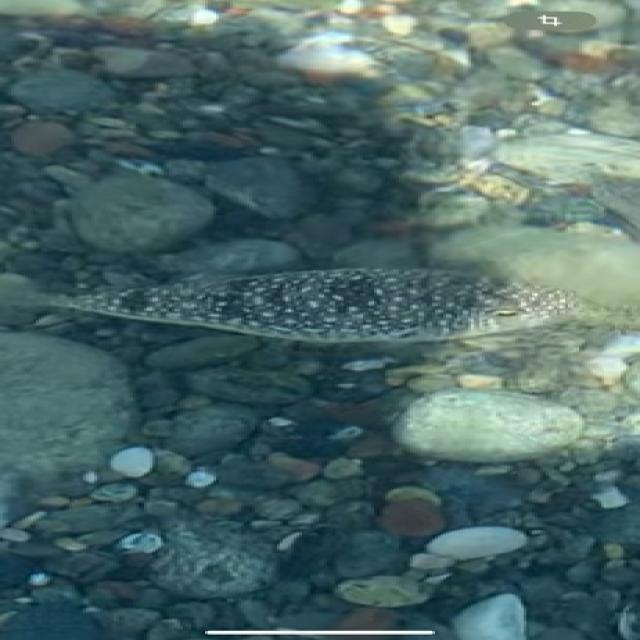Balik: (0, 269, 579, 343)
